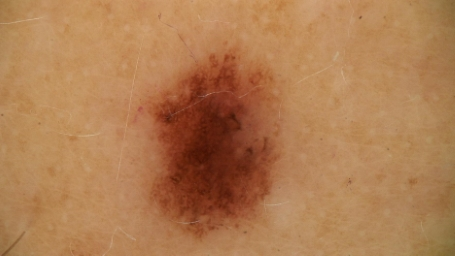nevus: (147, 53, 274, 235)
